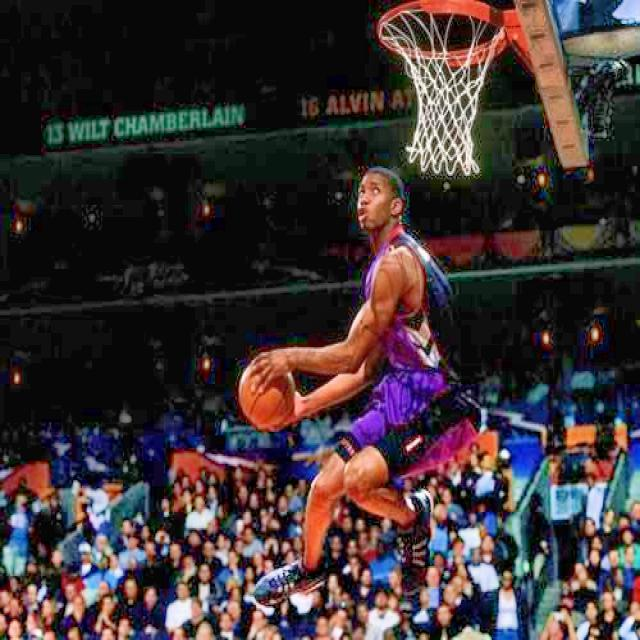rim: (377, 2, 509, 172)
